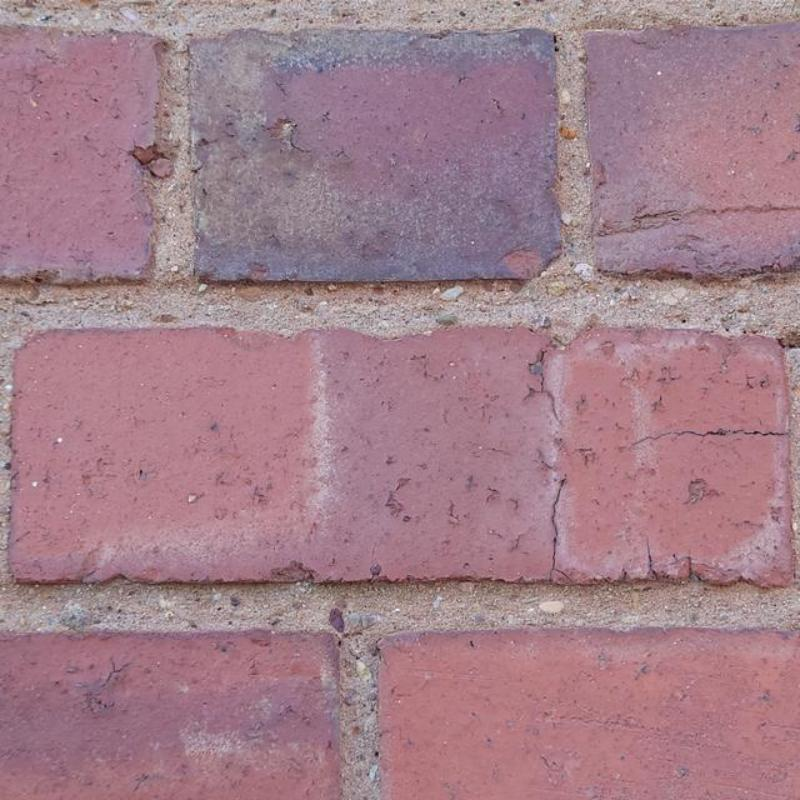crack: (523, 334, 569, 429), (631, 428, 789, 447), (546, 473, 573, 580)
